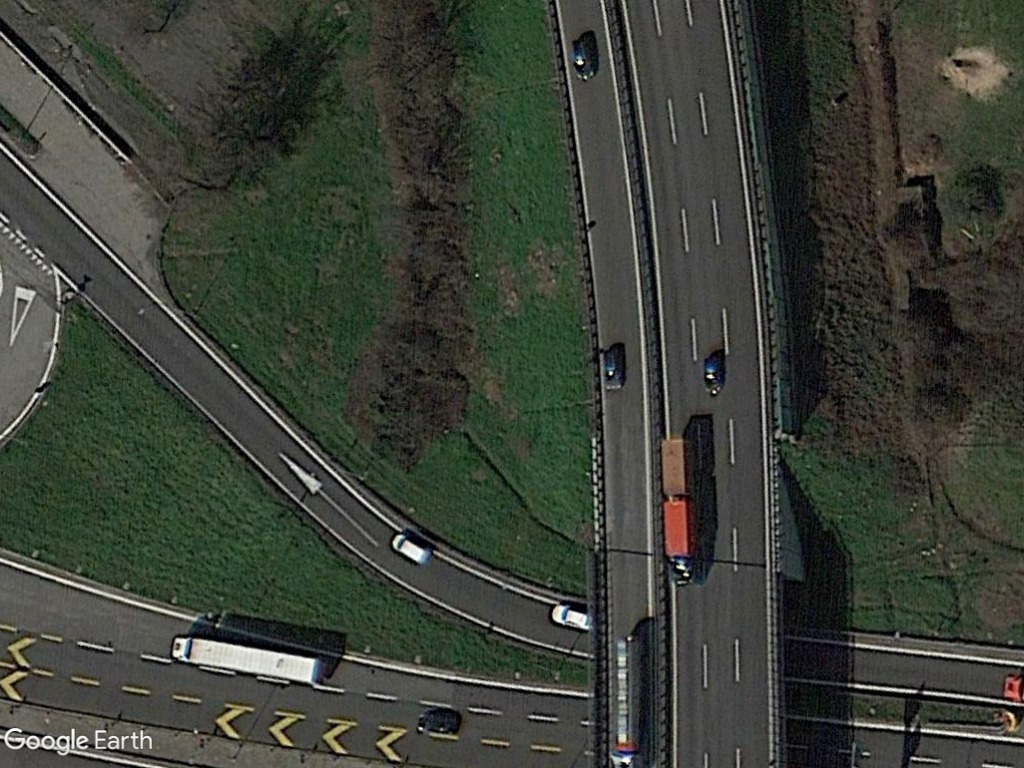car: (550, 601, 594, 634)
longvehicle: (163, 629, 327, 690), (656, 434, 709, 591)
van: (386, 528, 436, 568)
